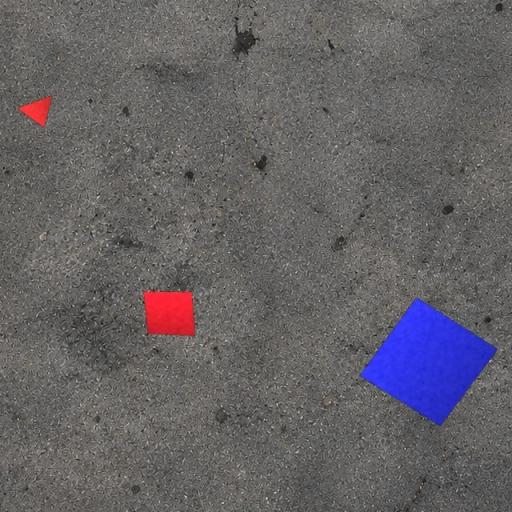BLUE_SQUARE: (358, 297, 498, 427)
RED_SQUARE: (142, 290, 196, 337)
